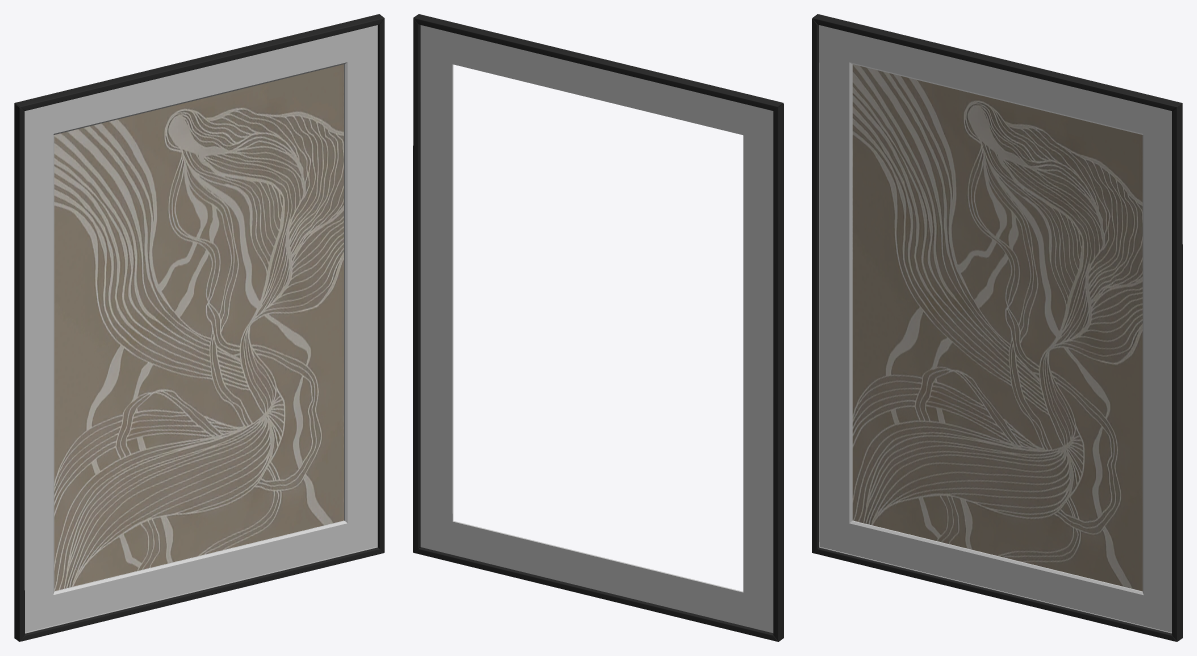
3 renders of one model, left to right at view 1: azimuth 30°, elevation 25°; view 2: azimuth 150°, elevation 25°; view 3: azimuth 330°, elevation 25°, orthographic.
Visible parts, largest first — view 1: BP_Plane178; view 2: BP_Plane178; view 3: BP_Plane178.
Part boxes in pixels (<box>): BP_Plane178: <box>14,14,384,641</box>; BP_Plane178: <box>413,14,783,641</box>; BP_Plane178: <box>812,14,1182,641</box>.
Size of the model in its own units: 0.5002 by 0.7 by 0.0136.
Materials: 3 (1 with a texture image).
